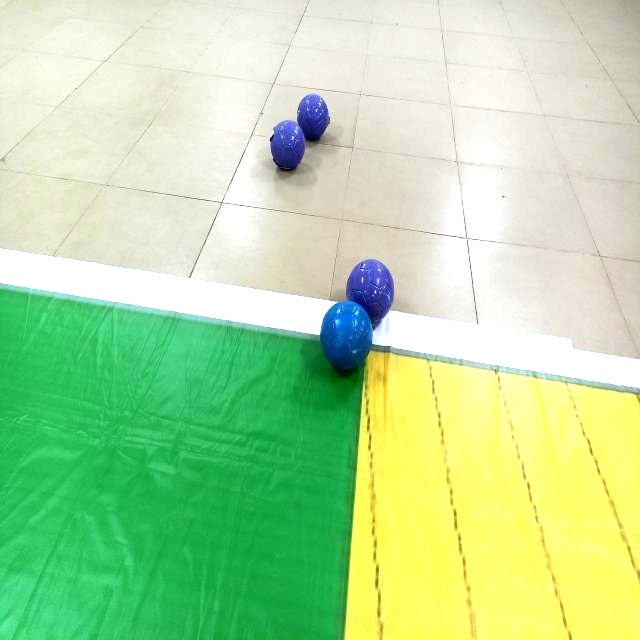blue_ball: (328, 306, 372, 366)
purple_ball: (350, 265, 391, 317), (298, 95, 330, 140), (273, 120, 303, 165)
